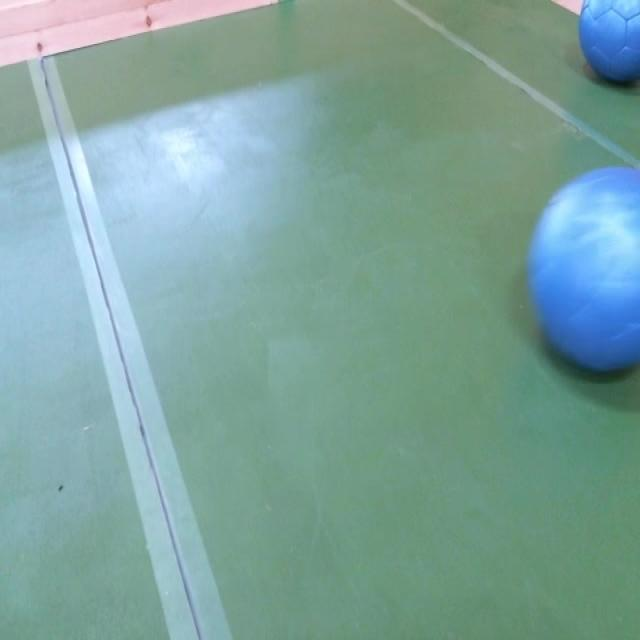blue_ball: (524, 166, 640, 371), (578, 0, 640, 87)
